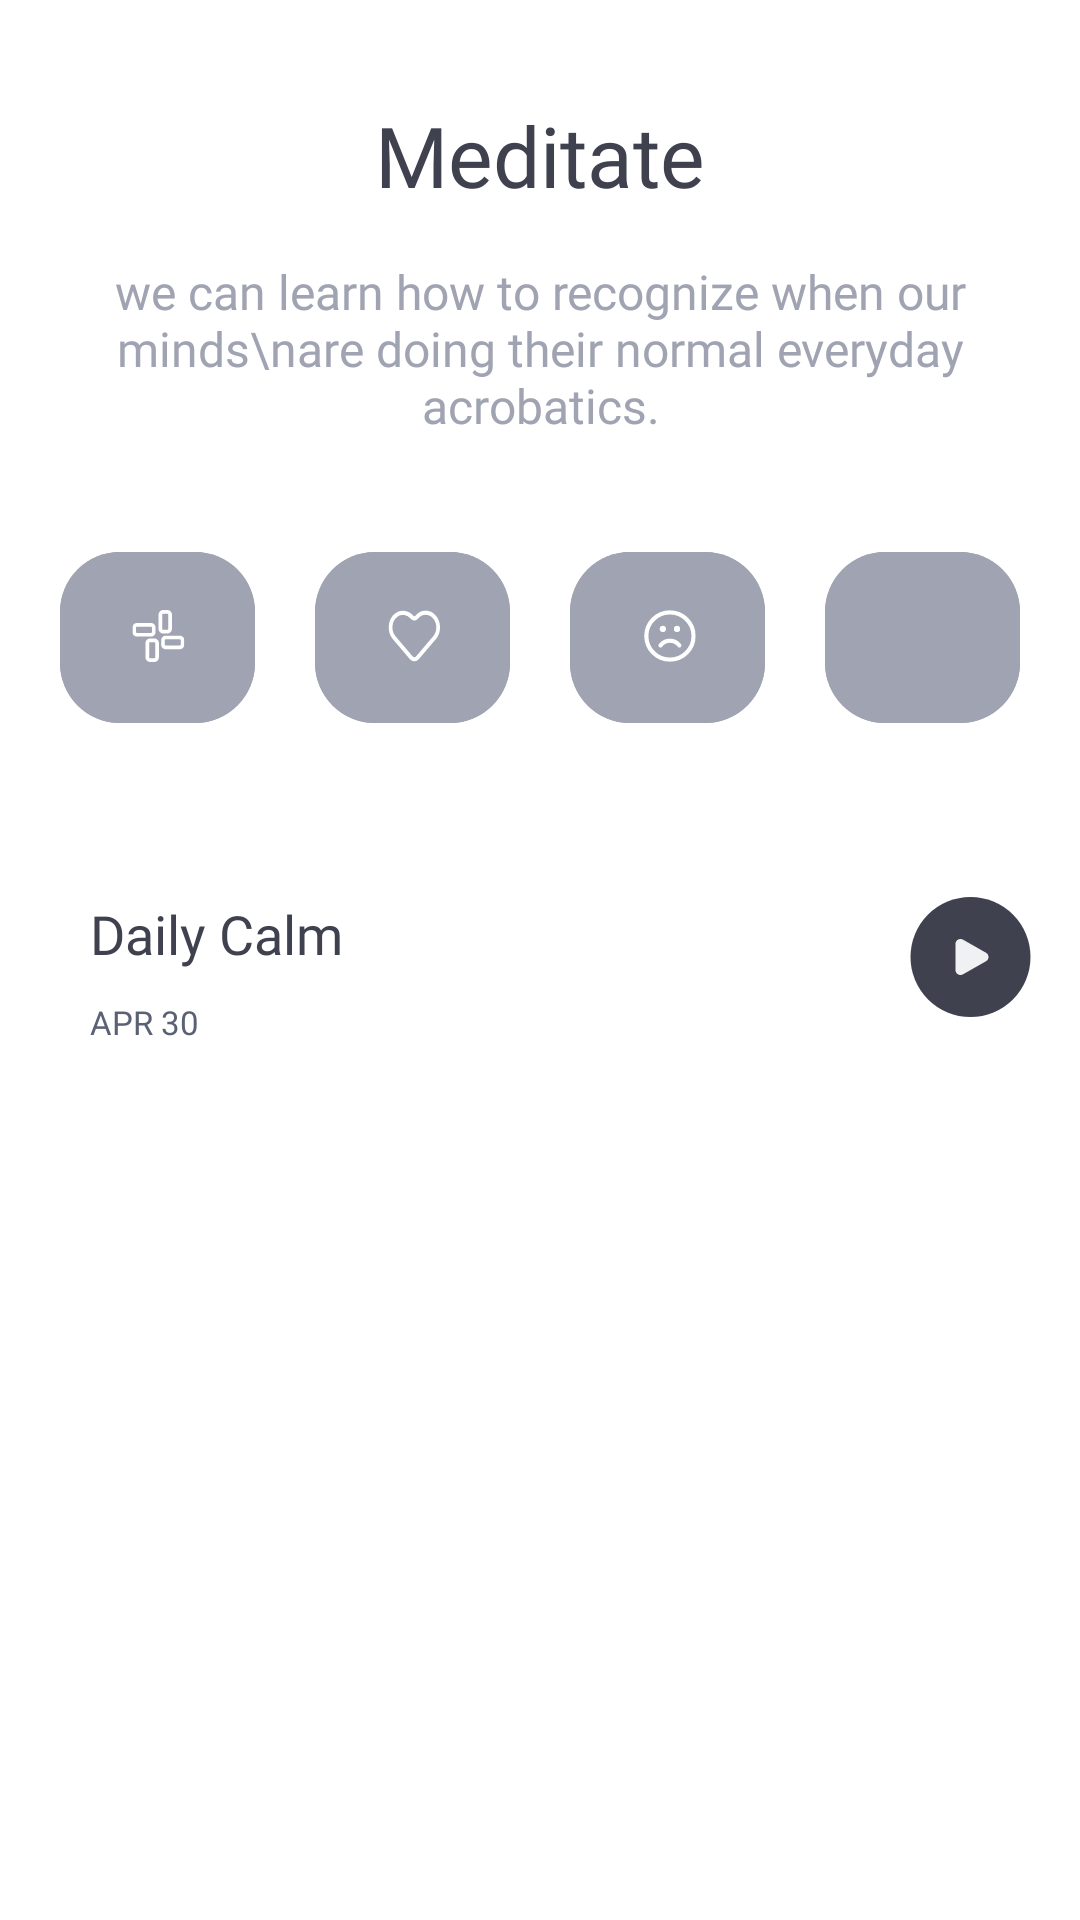

Locate icon controls on the screen. Image size 1080 x 1920, boxes as (x1, y1, x2, y2).
all: (60, 552, 255, 723)
anxious: (570, 552, 765, 723)
like: (315, 552, 510, 723)
play meditate: (910, 897, 1031, 1017)
